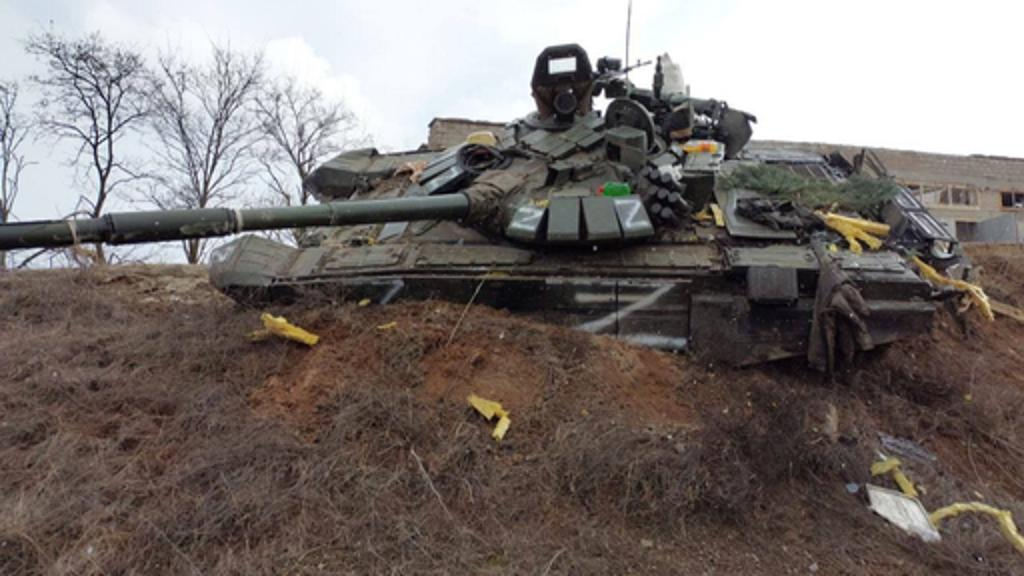TANK: (0, 40, 974, 384)
